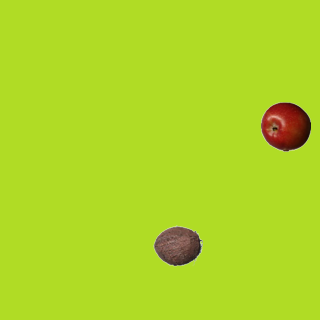Apple Braeburn: (260, 101, 310, 151)
Cocos: (152, 220, 202, 270)
